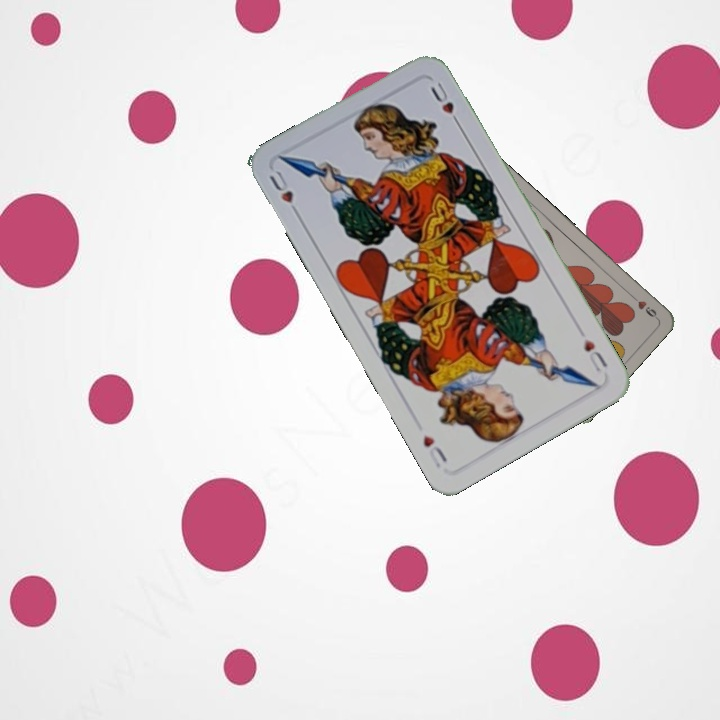H9: (627, 290, 660, 321)
HU: (265, 165, 304, 220), (579, 335, 610, 375)
